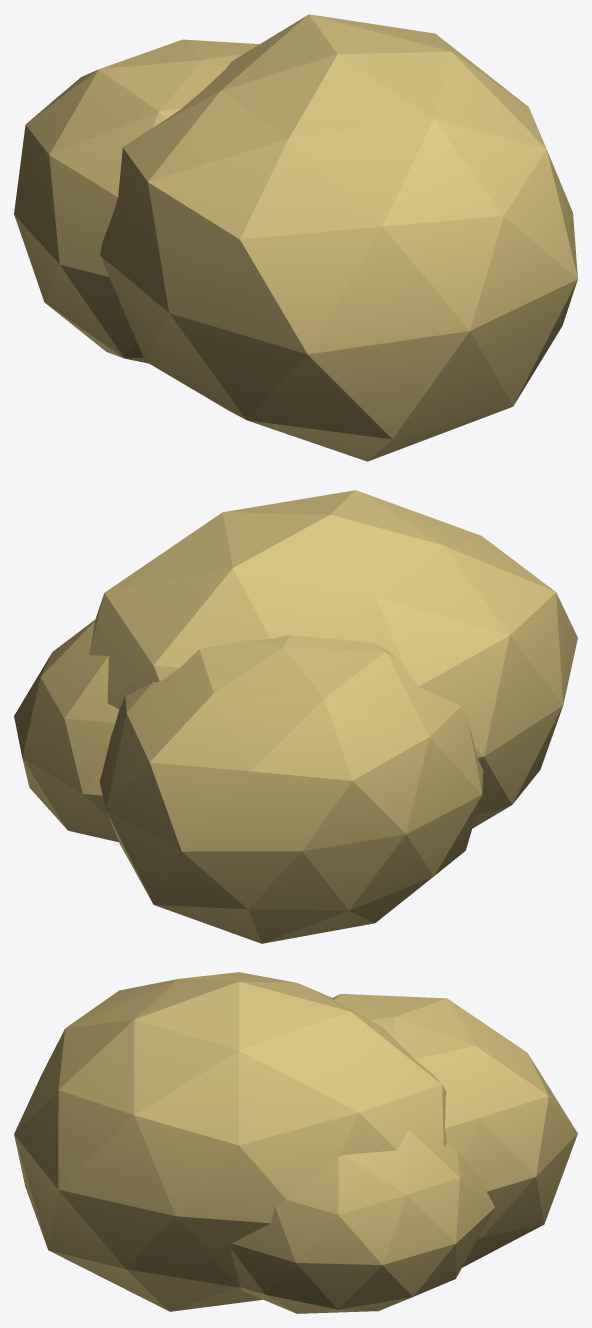
File: bush_flower.glb
3 renders of one model, top to bottom at view 1: azimuth 30°, elevation 25°; view 2: azimuth 150°, elevation 25°; view 3: azimuth 270°, elevation 25°, orthographic. The views are drawn at different scales.
Visible parts, largest first — view 1: Bush_deco; view 2: Bush_deco; view 3: Bush_deco.
Boxes of the visible parts, x1,y1,x2,y2 form: Bush_deco: (14, 14, 577, 461); Bush_deco: (14, 490, 577, 943); Bush_deco: (14, 972, 577, 1313).
Bounding box in the file's own units: 1.08 × 0.8077 × 1.32.
